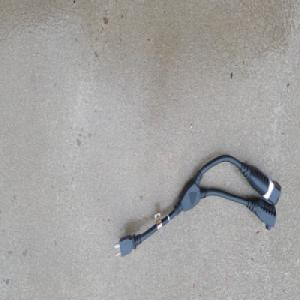Wire: (113, 154, 282, 260)
